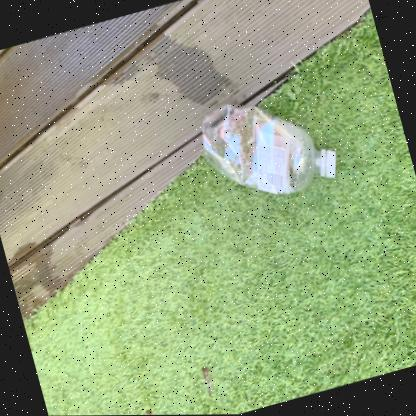Plastic: (202, 103, 336, 192)
